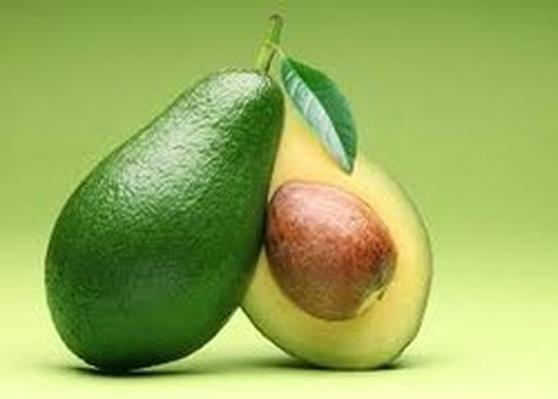avocado: (47, 69, 286, 365)
